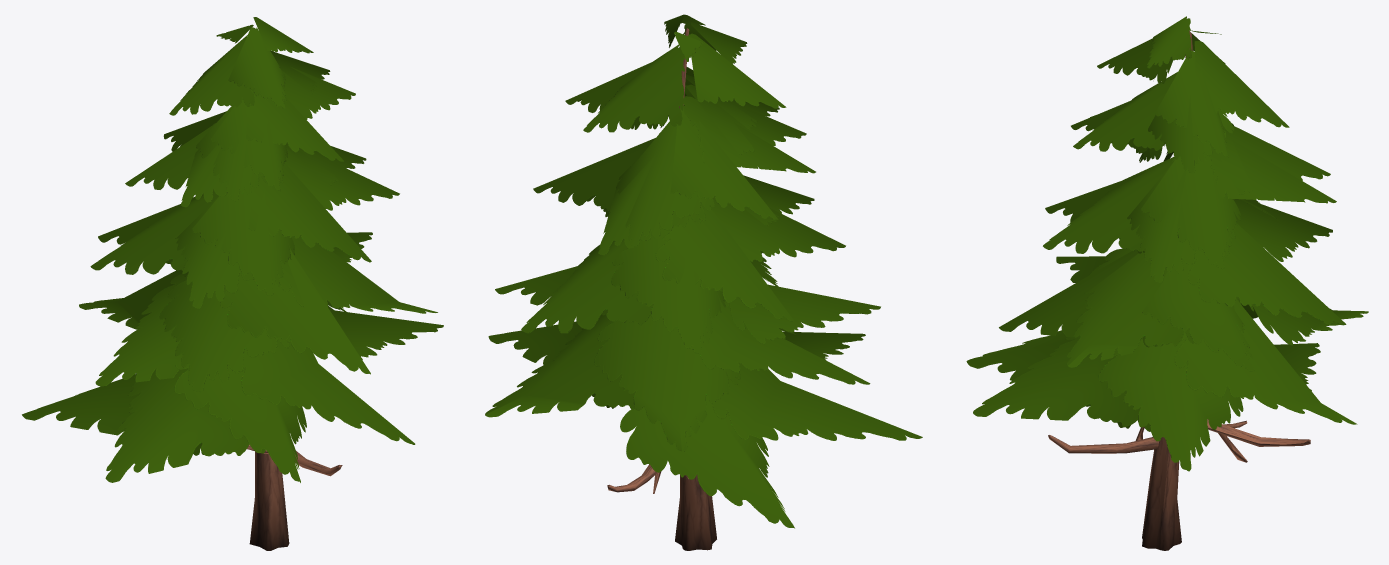
The model's file is Pine_2_far.gltf.
3 renders of one model, left to right at view 1: azimuth 30°, elevation 25°; view 2: azimuth 150°, elevation 25°; view 3: azimuth 270°, elevation 25°, orthographic. The views are drawn at different scales.
Visible parts, largest first — view 1: Pine_2; view 2: Pine_2; view 3: Pine_2.
Boxes of the visible parts, x1,y1,x2,y2 form: Pine_2: (22,17,443,550); Pine_2: (485,14,922,550); Pine_2: (966,16,1368,550).
Bounding box in the file's own units: 5.73 × 7.3 × 5.22.
2 materials, 2 textured.
